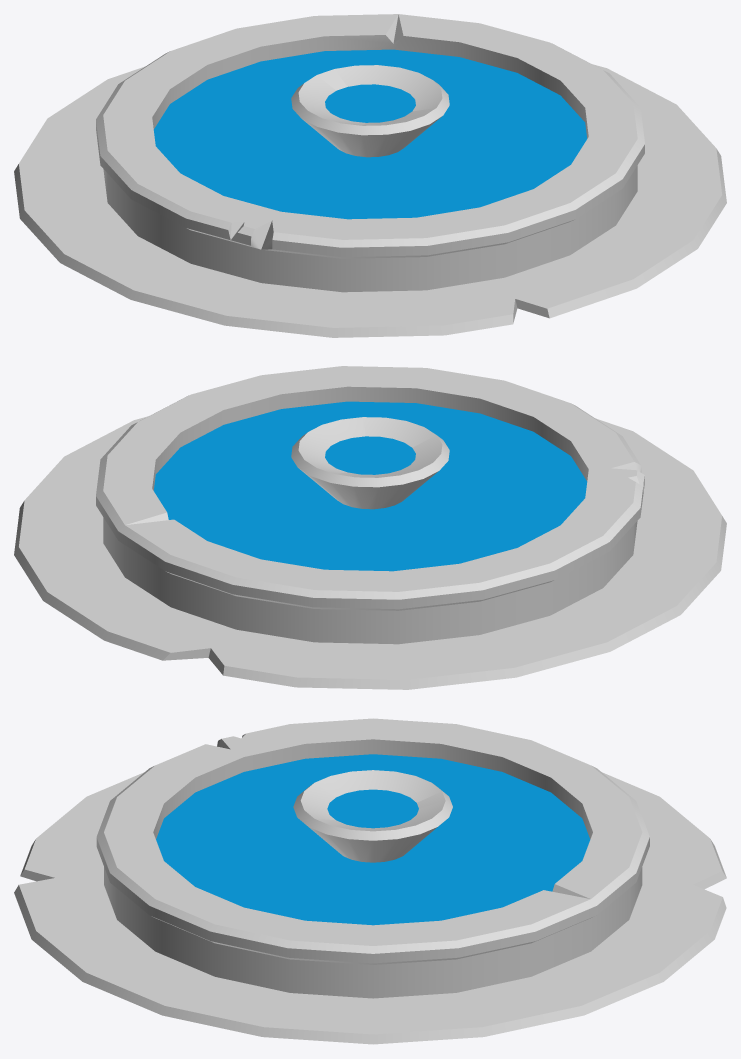
Rendered from fountain_1.fbx.
3 renders of one model, top to bottom at view 1: azimuth 30°, elevation 25°; view 2: azimuth 150°, elevation 25°; view 3: azimuth 270°, elevation 25°, orthographic.
Parts seen in each view (by area): view 1: fountain_1; view 2: fountain_1; view 3: fountain_1.
Part boxes in pixels (left/top/right/bottom): fountain_1: left=14, top=14, right=726, bottom=337; fountain_1: left=14, top=366, right=726, bottom=689; fountain_1: left=14, top=718, right=726, bottom=1044.
Bounding box in the file's own units: 1219 × 172 × 1210.
